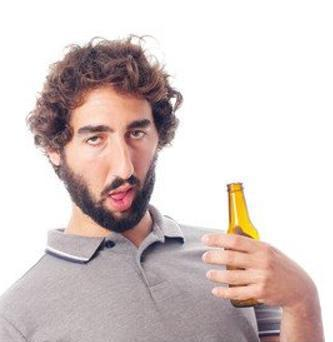Drunk: (70, 94, 154, 226)
